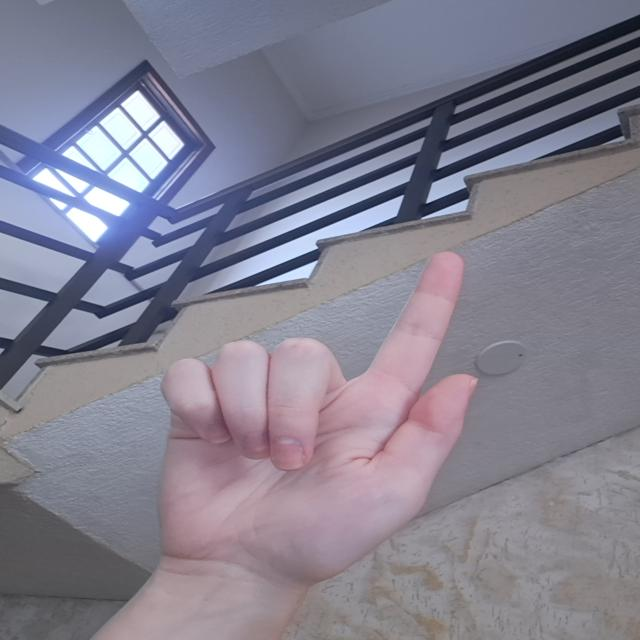G: (144, 239, 486, 569)
